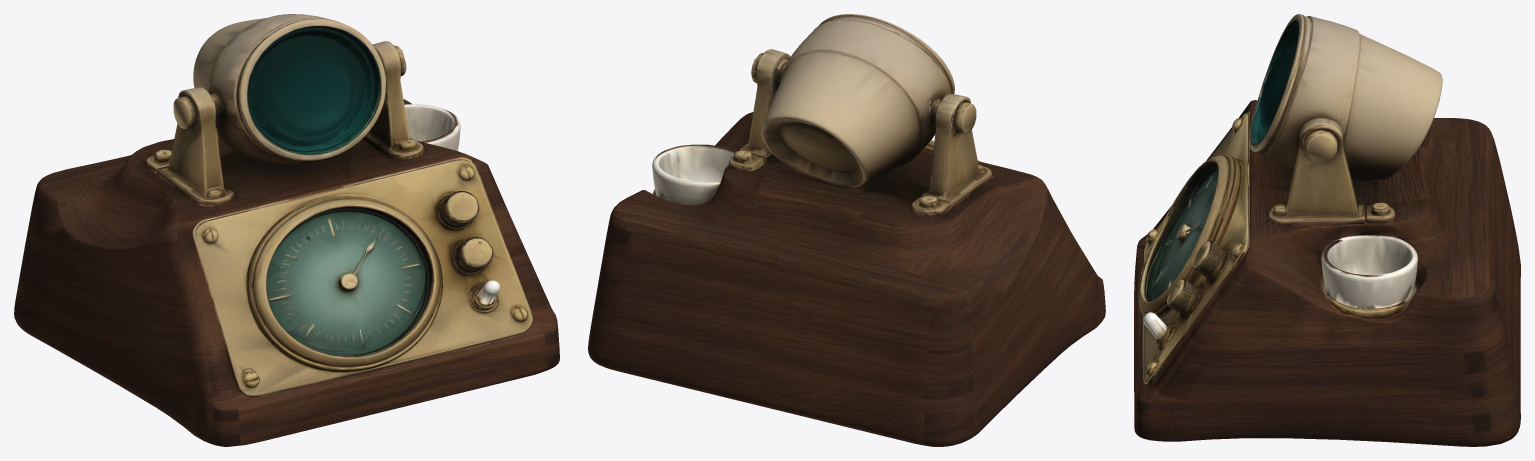
Rendered from instrument-hunyuan-v1.glb.
3 views of the same model, side by side, from view 1: azimuth 30°, elevation 25°; view 2: azimuth 150°, elevation 25°; view 3: azimuth 270°, elevation 25° (orthographic). The views are drawn at different scales.
Visible parts, largest first — view 1: instrument metre normalization; view 2: instrument metre normalization; view 3: instrument metre normalization.
Part boxes in pixels (x1,y1,x2,y2): instrument metre normalization: (14,14,559,446); instrument metre normalization: (588,14,1105,446); instrument metre normalization: (1134,14,1520,446).
Size of the model in its own units: 0.8 by 0.64 by 0.68.
1 material, 1 textured.
